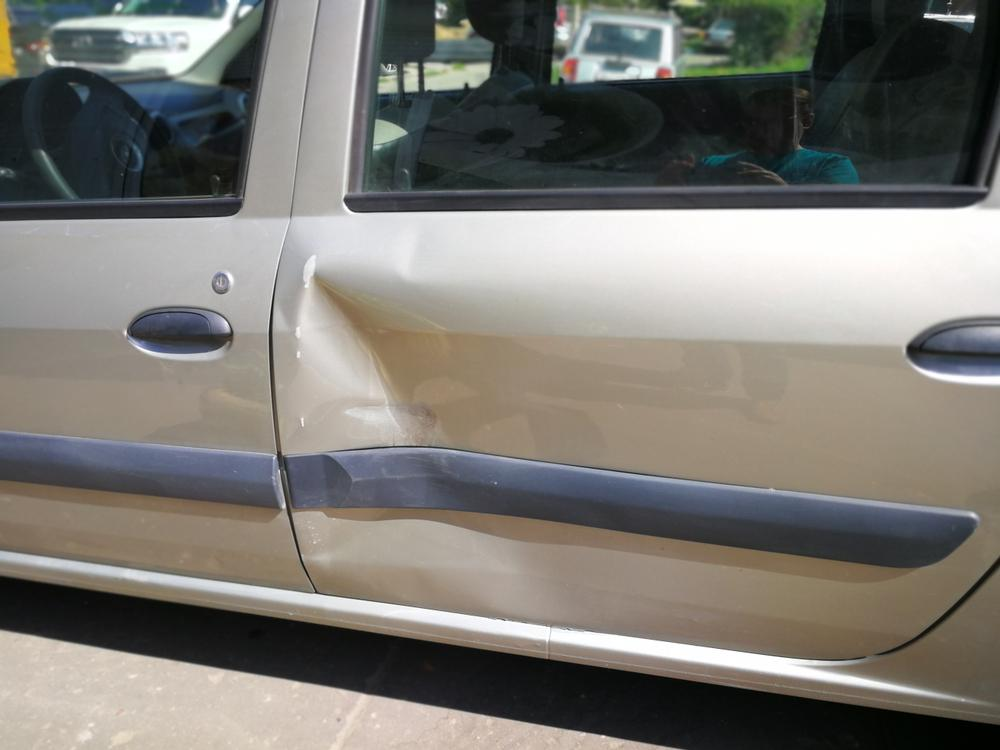dent: (286, 261, 624, 629), (394, 217, 445, 280)
